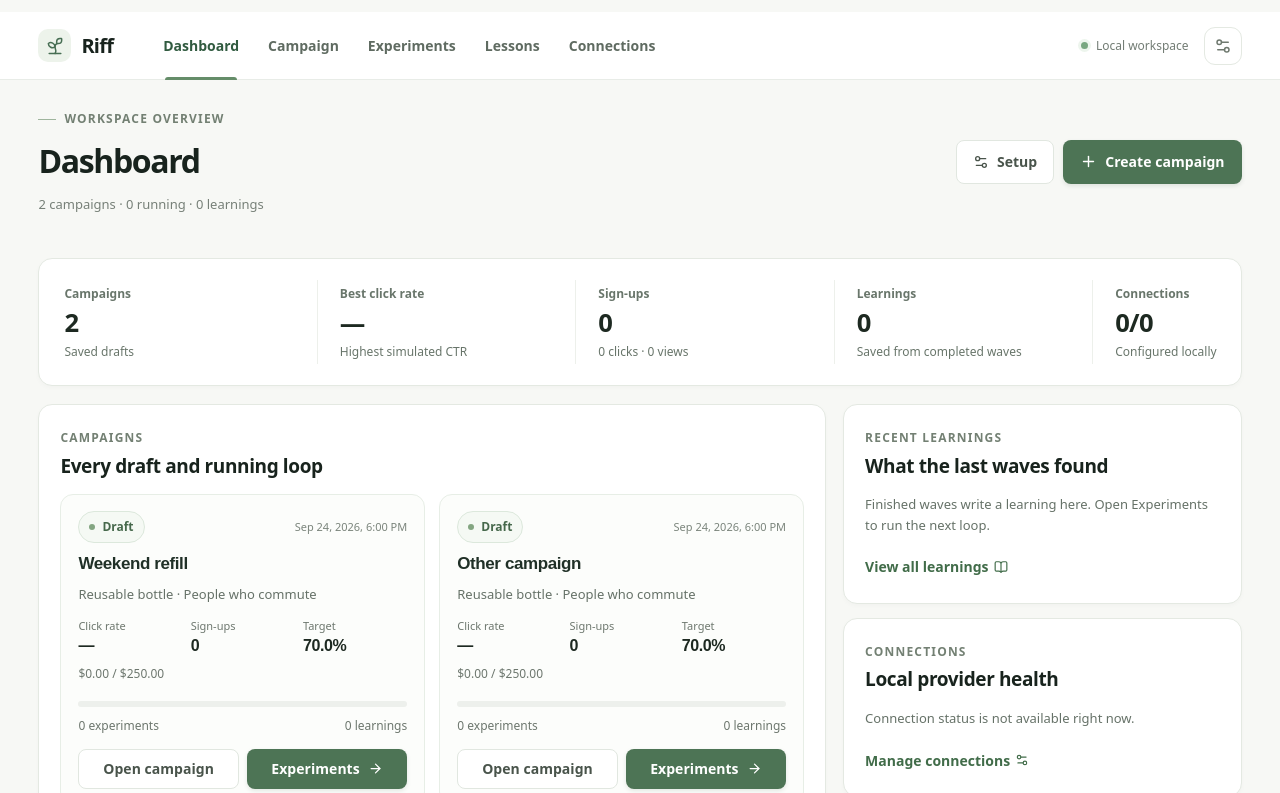
Riff dashboard › ignores a previous campaign’s pending wave response after switching campaigns
This screenshot has width=1280, height=793.
Click the button "Campaign". click: (304, 46)
box: [256,12,351,79]
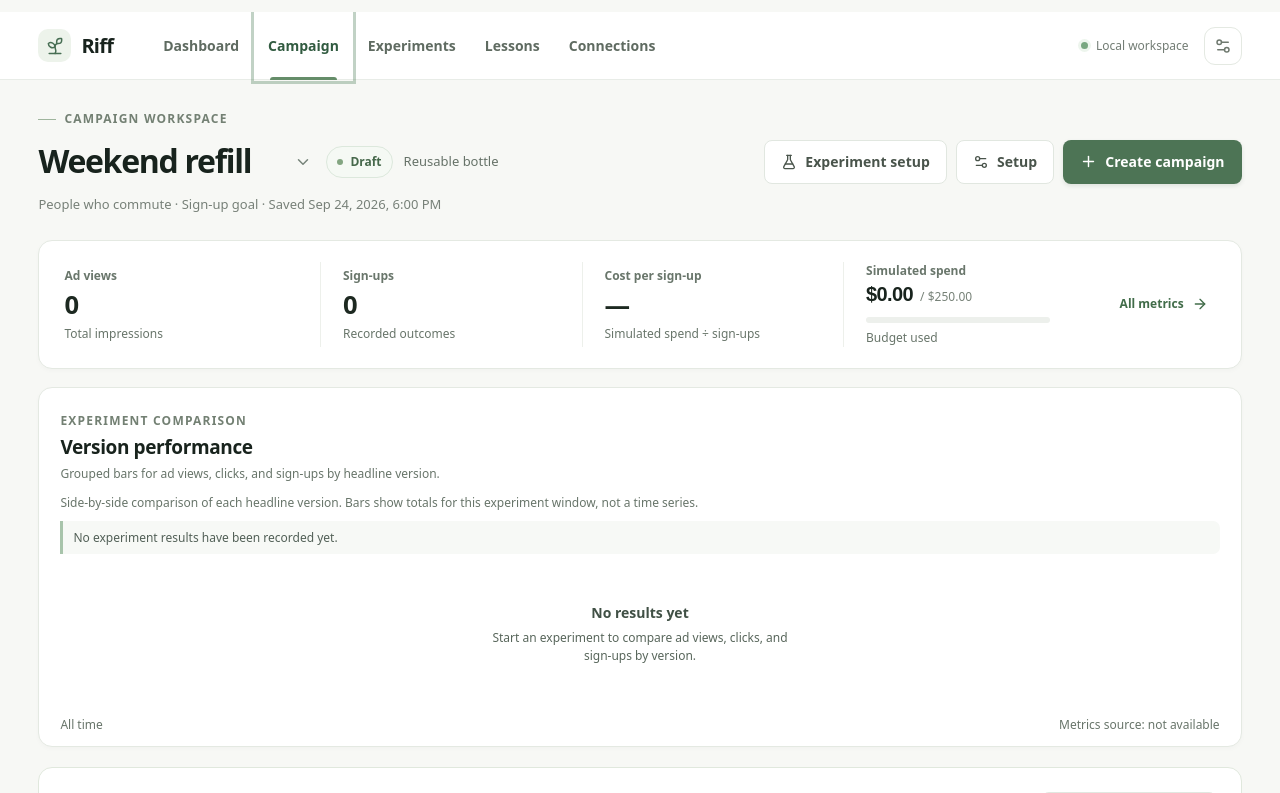
Click the button "Experiments". click: (412, 46)
box: [356,12,468,79]
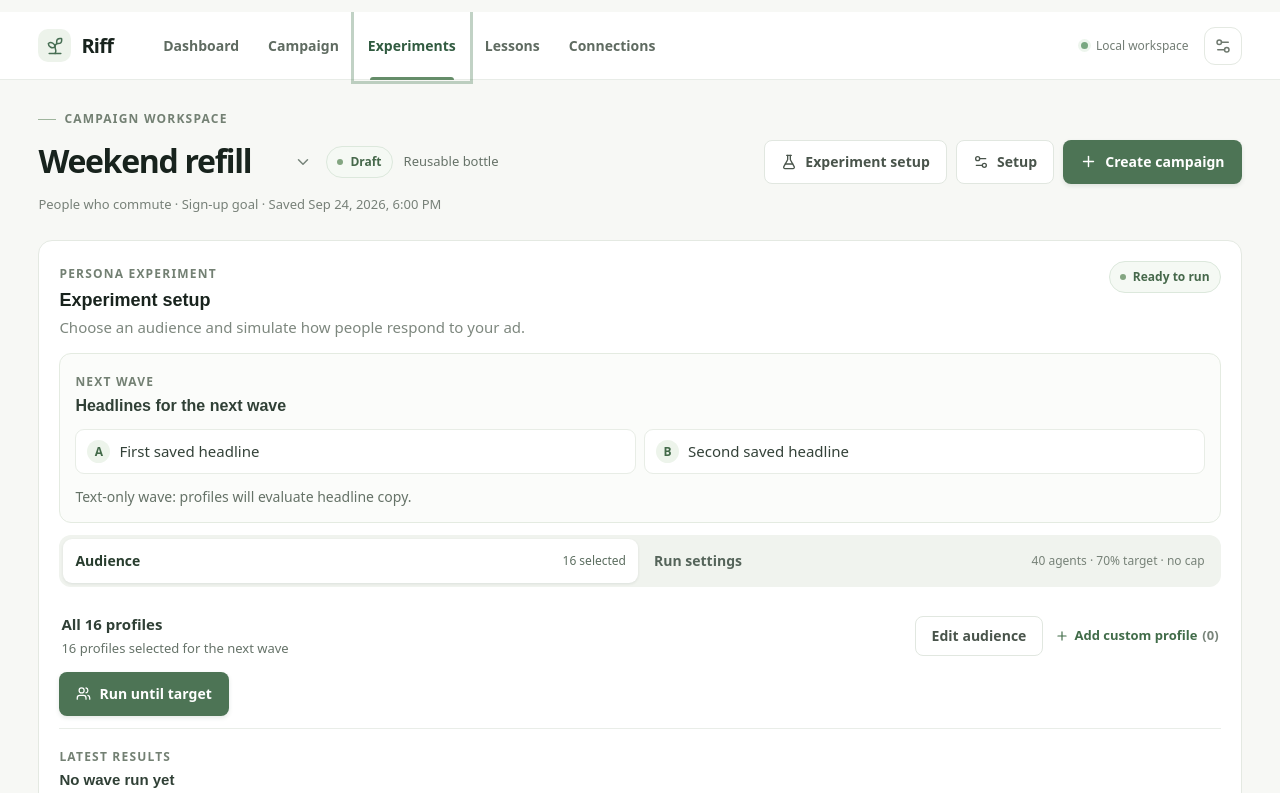
Click the button "Run until target". click: (144, 694)
box: [59,672,229,716]
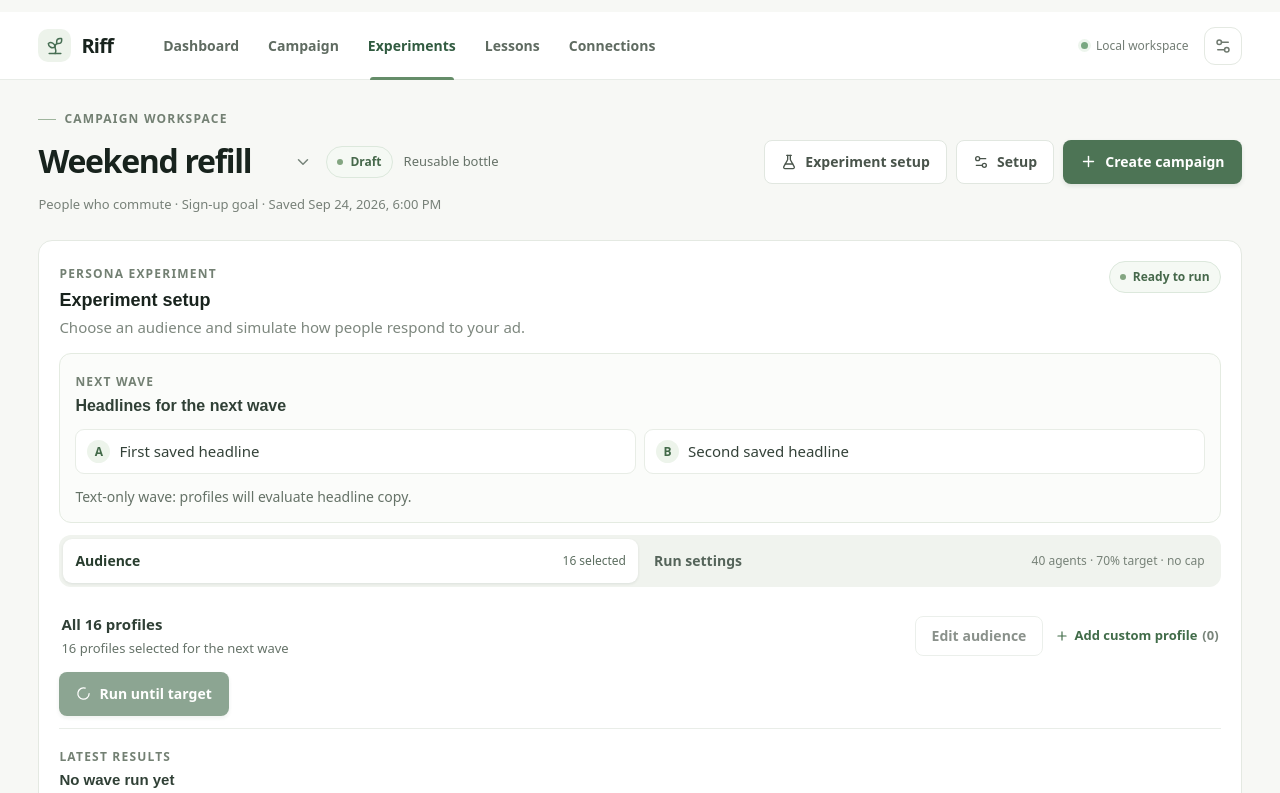
Select "Other campaign" in the dropdown named "Choose campaign". click: (176, 162)
box: [38,142,313,182]
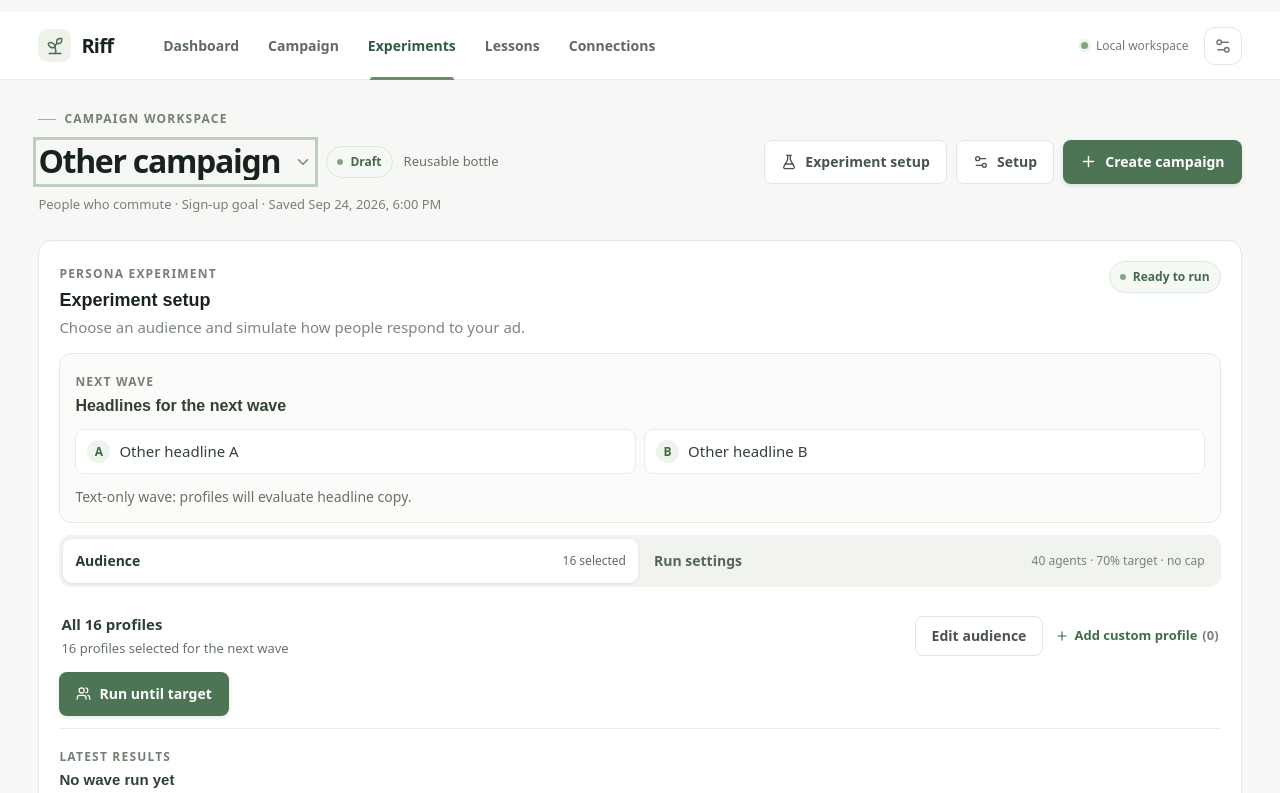
Check: the heading "No wave run yet" is shown, box [59,770,174,790]
Check: the text "Other headline A" is shown, box [119,441,239,463]
